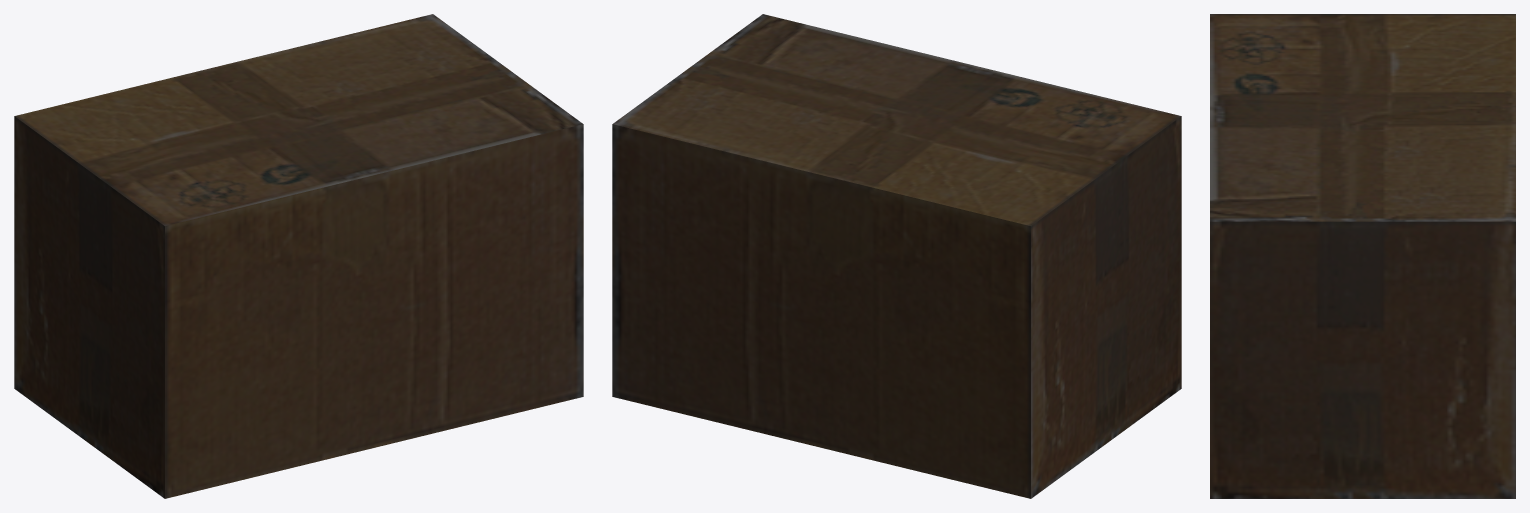
File: cardboard_box_1.fbx
The picture shows the model from 3 angles, left to right: view 1: azimuth 30°, elevation 25°; view 2: azimuth 150°, elevation 25°; view 3: azimuth 270°, elevation 25°; orthographic projection.
Visible parts, largest first — view 1: cardboard_box_1; view 2: cardboard_box_1; view 3: cardboard_box_1.
Boxes of the visible parts, x1,y1,x2,y2 form: cardboard_box_1: [14, 14, 583, 498]; cardboard_box_1: [612, 14, 1181, 498]; cardboard_box_1: [1210, 14, 1515, 498].
Bounding box in the file's own units: 0.53 × 0.33 × 0.33.
